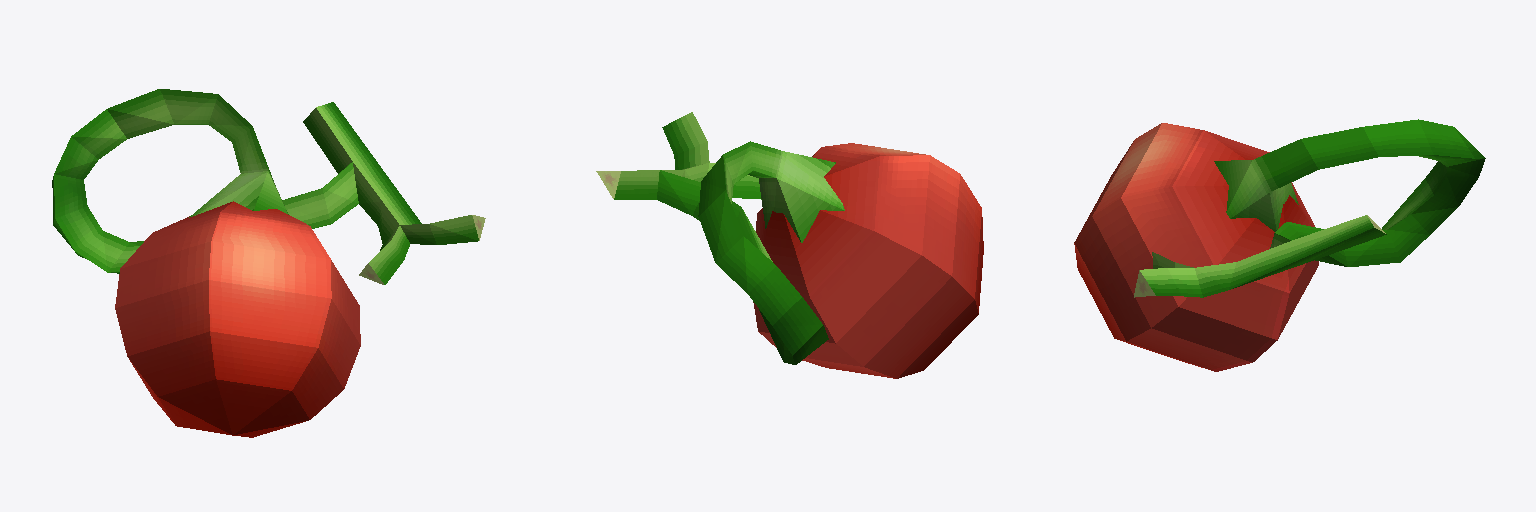
The picture shows the model from 3 angles: view 1: azimuth 30°, elevation 25°; view 2: azimuth 150°, elevation 25°; view 3: azimuth 270°, elevation 25°; orthographic projection.
Parts seen in each view (by area): view 1: kurabo; view 2: kurabo; view 3: kurabo.
Boxes of the visible parts, x1,y1,x2,y2 form: kurabo: [52, 89, 485, 437]; kurabo: [596, 112, 983, 378]; kurabo: [1074, 119, 1485, 371].
Bounding box in the file's own units: 2.66 × 1.99 × 2.83.
1 materials, 1 textured.